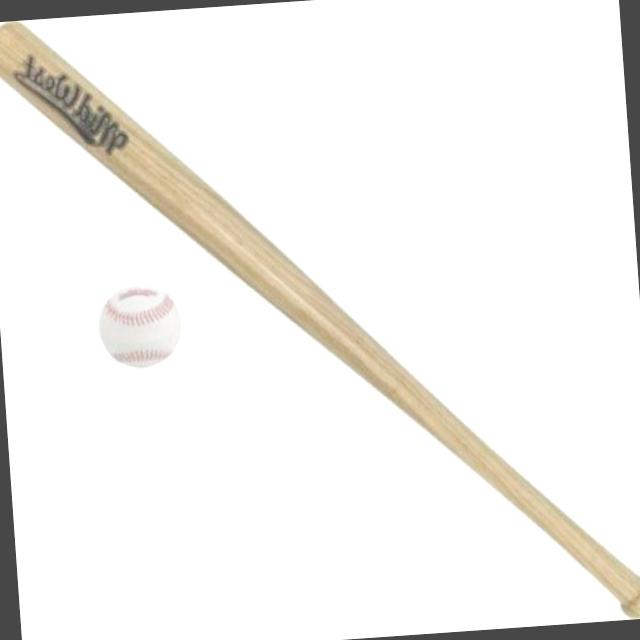ball: (88, 276, 192, 373)
